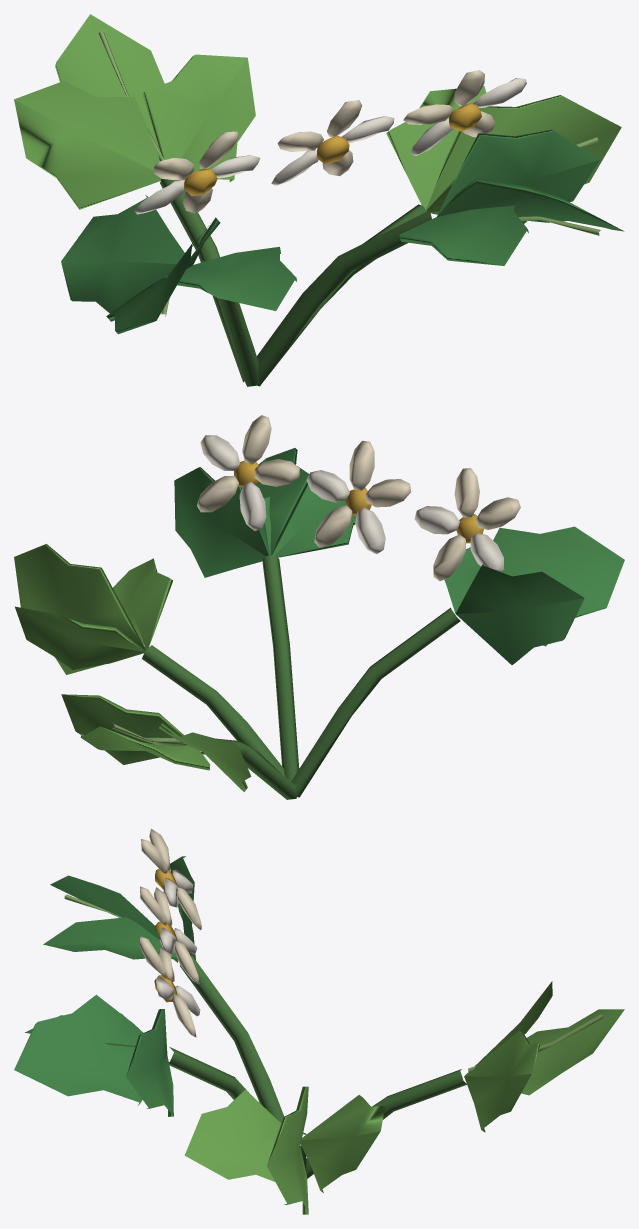
Rendered from fresa_2_lod.glb.
3 views of the same model, one above another, from view 1: azimuth 30°, elevation 25°; view 2: azimuth 150°, elevation 25°; view 3: azimuth 270°, elevation 25° (orthographic). The views are drawn at different scales.
Visible parts, largest first — view 1: fresa_2_roseta_0; view 2: fresa_2_roseta_0; view 3: fresa_2_roseta_0.
Part boxes in pixels (x1,y1,x2,y2): fresa_2_roseta_0: (14,14,624,386); fresa_2_roseta_0: (14,415,624,799); fresa_2_roseta_0: (14,828,624,1214).
Size of the model in its own units: 0.4679 by 0.2551 by 0.4792.
